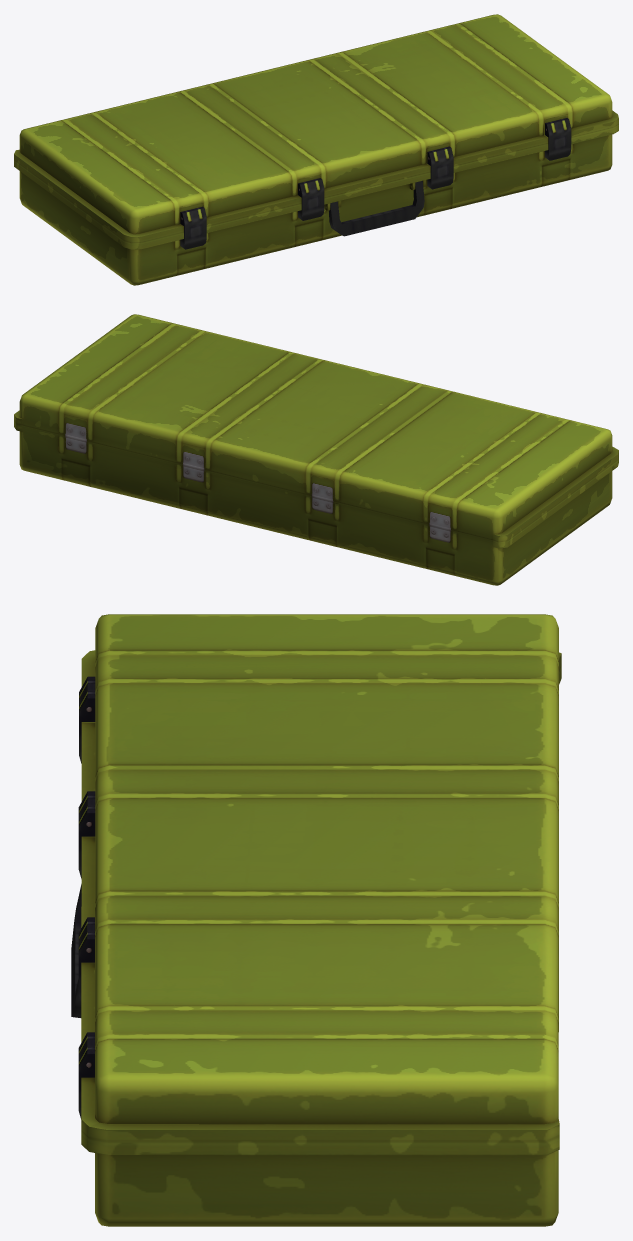
Rendered from StorageCase02_1.FBX.
The picture shows the model from 3 angles, top to bottom: view 1: azimuth 30°, elevation 25°; view 2: azimuth 150°, elevation 25°; view 3: azimuth 270°, elevation 25°; orthographic projection. The views are drawn at different scales.
Visible parts, largest first — view 1: StorageCase02_1; view 2: StorageCase02_1; view 3: StorageCase02_1.
Boxes of the visible parts, box(x1,y1,x2,y2) form: StorageCase02_1: box(14, 14, 618, 285); StorageCase02_1: box(14, 314, 618, 585); StorageCase02_1: box(71, 614, 561, 1226).
Size of what is drawn, in the model's own units: 1.23 by 0.18 by 0.5286.
